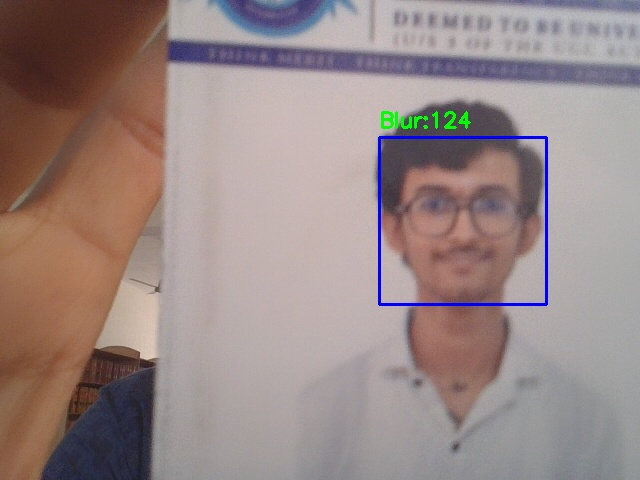fake: (379, 137, 546, 304)
